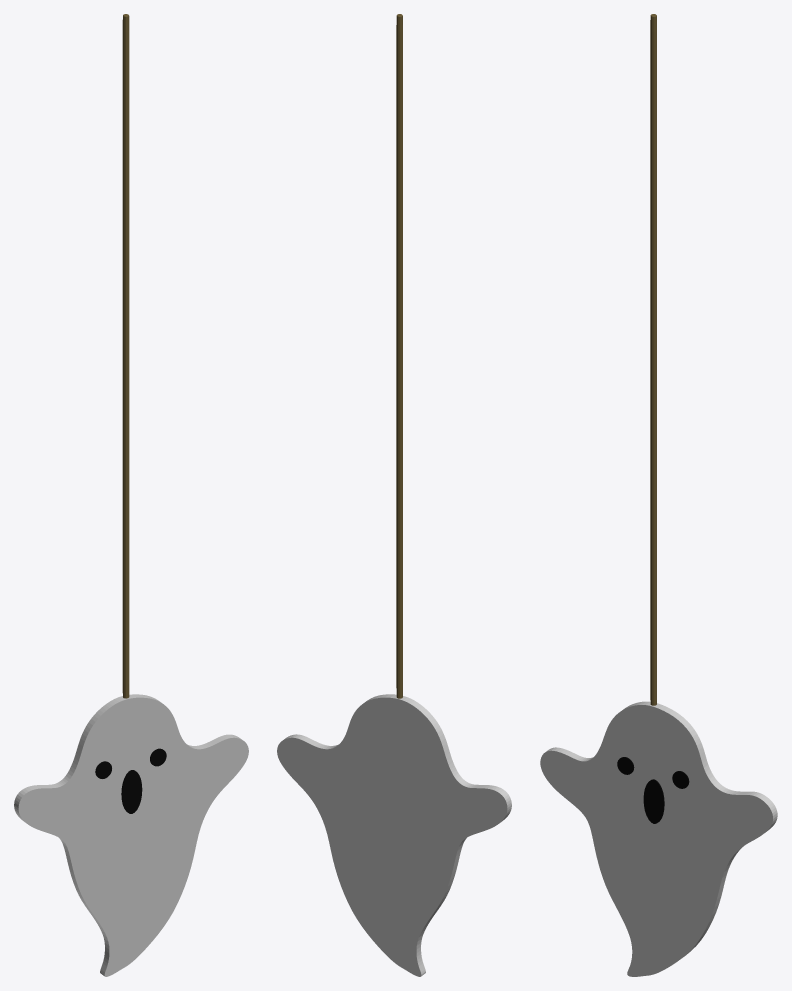
Rendered from Cartoon_Ghost_High_Poly.obj.
The picture shows the model from 3 angles, left to right: view 1: azimuth 30°, elevation 25°; view 2: azimuth 150°, elevation 25°; view 3: azimuth 330°, elevation 25°; orthographic projection.
Parts seen in each view (by area): view 1: Ghost_Plane, String_Cylinder.003; view 2: Ghost_Plane, String_Cylinder.003; view 3: Ghost_Plane, String_Cylinder.003.
Boxes of the visible parts, x1,y1,x2,y2 form: Ghost_Plane: [14, 694, 248, 976]; String_Cylinder.003: [122, 14, 129, 698]; Ghost_Plane: [277, 694, 511, 976]; String_Cylinder.003: [396, 14, 402, 698]; Ghost_Plane: [540, 701, 777, 976]; String_Cylinder.003: [650, 14, 656, 705].
Size of the model in its own units: 0.8845 by 3.5 by 0.0346.
